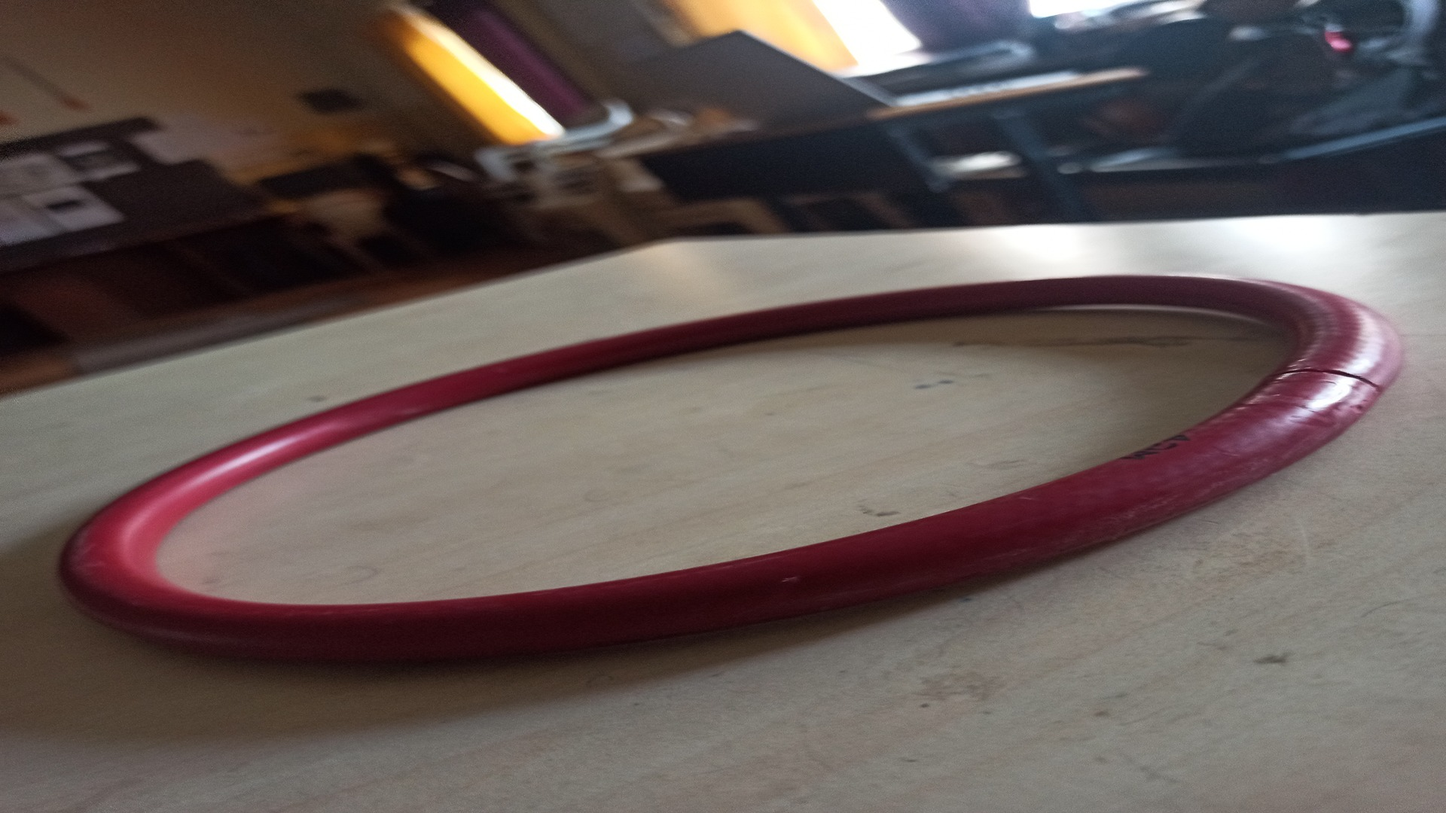Red ring: (53, 272, 1396, 662)
